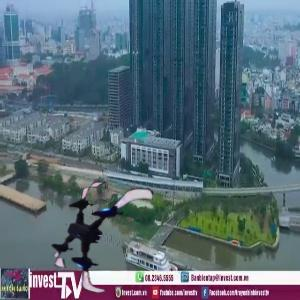drone: (38, 180, 155, 297)
